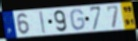6: (16, 12, 31, 35)
7: (90, 6, 103, 32), (106, 5, 120, 29)
9: (53, 10, 68, 33)
G: (70, 9, 86, 31)
I: (38, 11, 46, 35)
